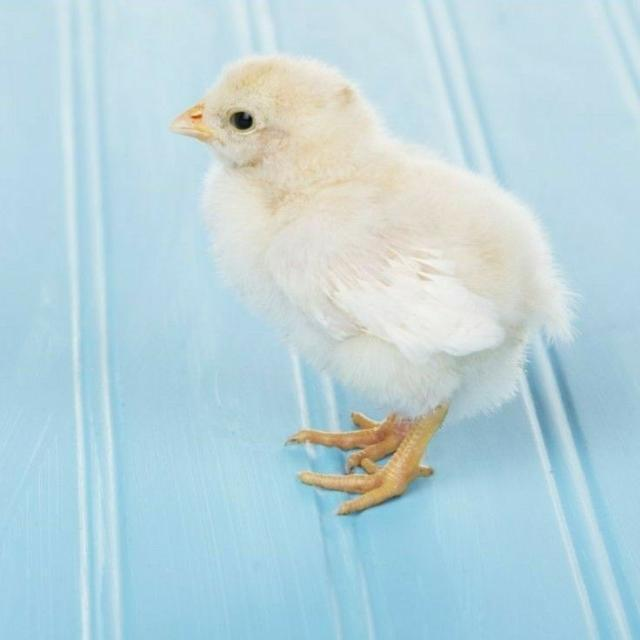poussin: (168, 50, 572, 516)
